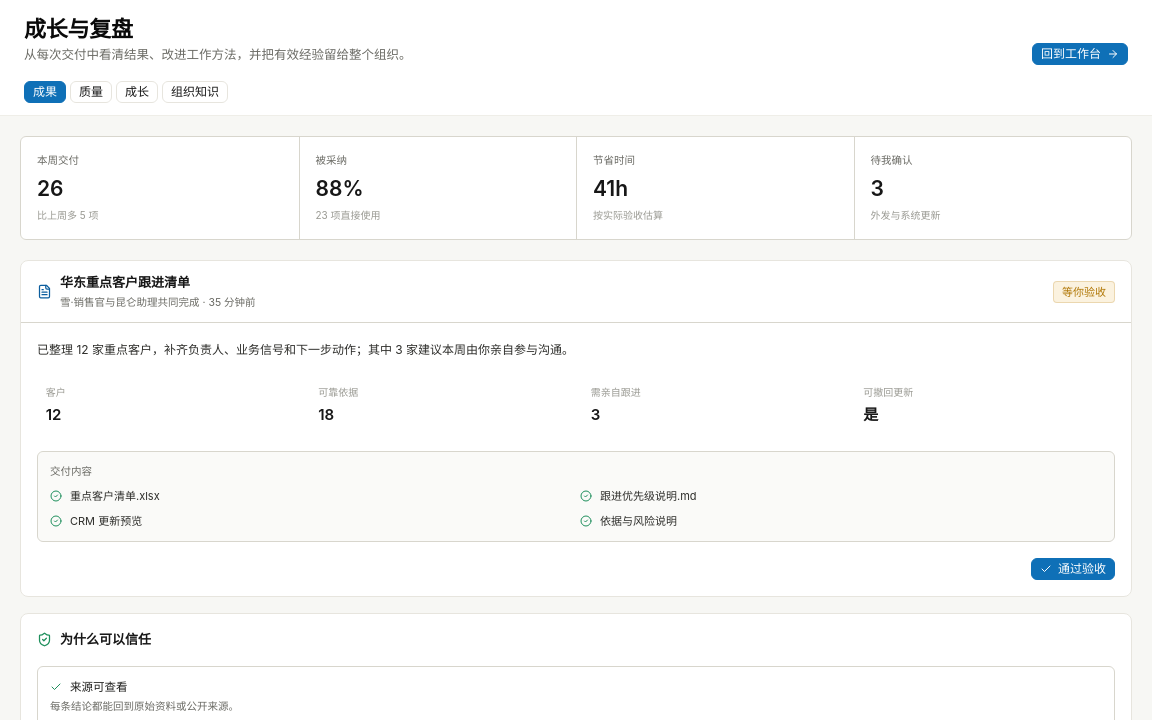
Test: EvidencePage skill growth › separates twin coaching, digital employee training, and team promotion
Click the button "成长": (137, 92) [116,81,158,103]
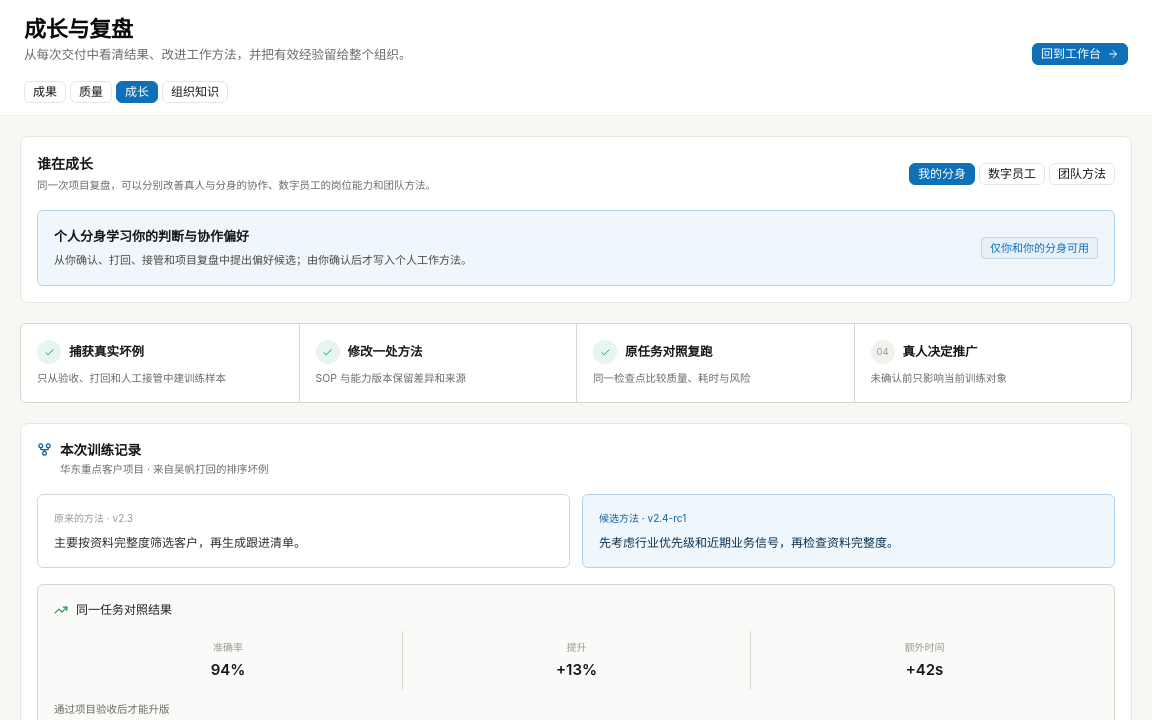
Expected: the heading "谁在成长" is shown, [37,155,93,172]
Expected: the text "个人分身学习你的判断与协作偏好" is shown, [54,228,249,244]
Click the button "数字员工": (1012, 174) [979,162,1045,184]
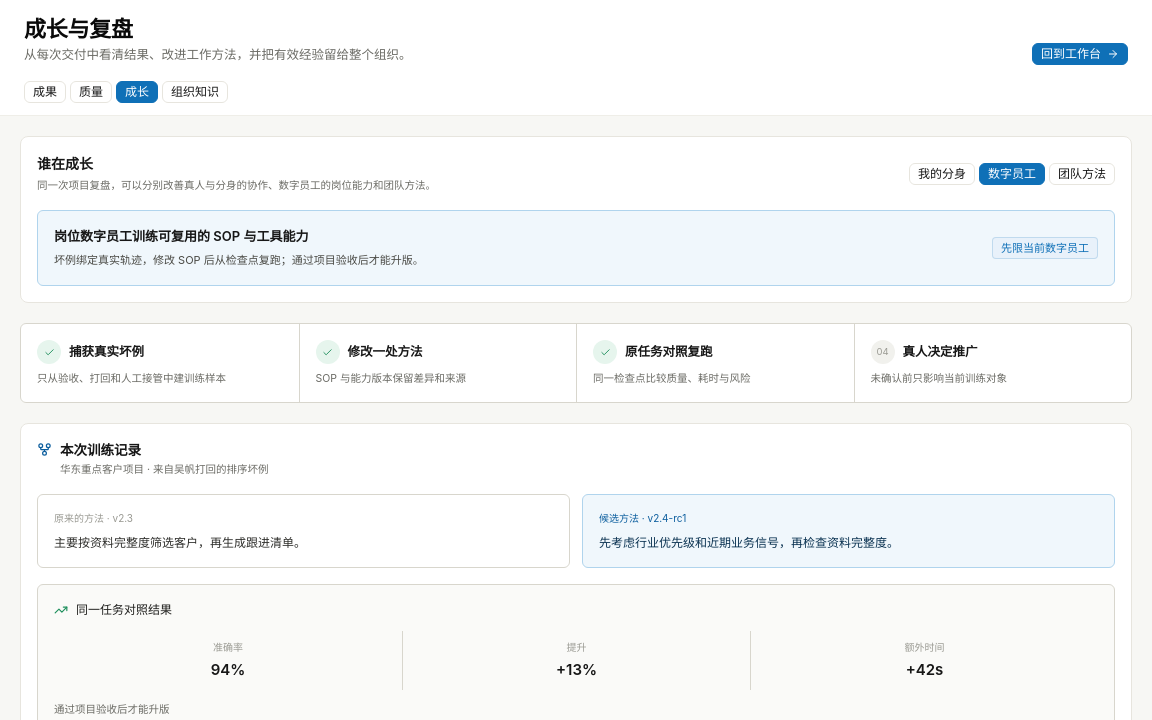
Expected: the text "通过项目验收后才能升版" is shown, [54,703,170,716]
Expected: the text "岗位数字员工训练可复用的 SOP 与工具能力" is shown, [54,228,308,244]
Click the button "团队方法": (1082, 174) [1049,162,1115,184]
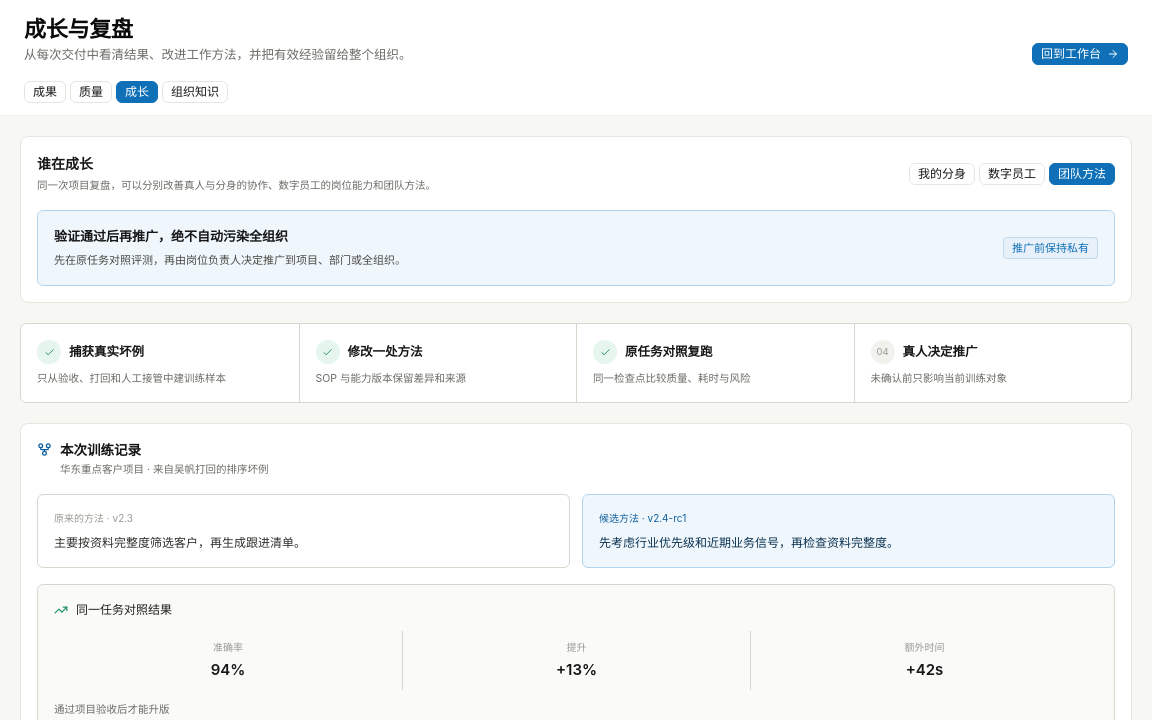
Expected: the text "验证通过后再推广，绝不自动污染全组织" is shown, [54,228,288,244]
